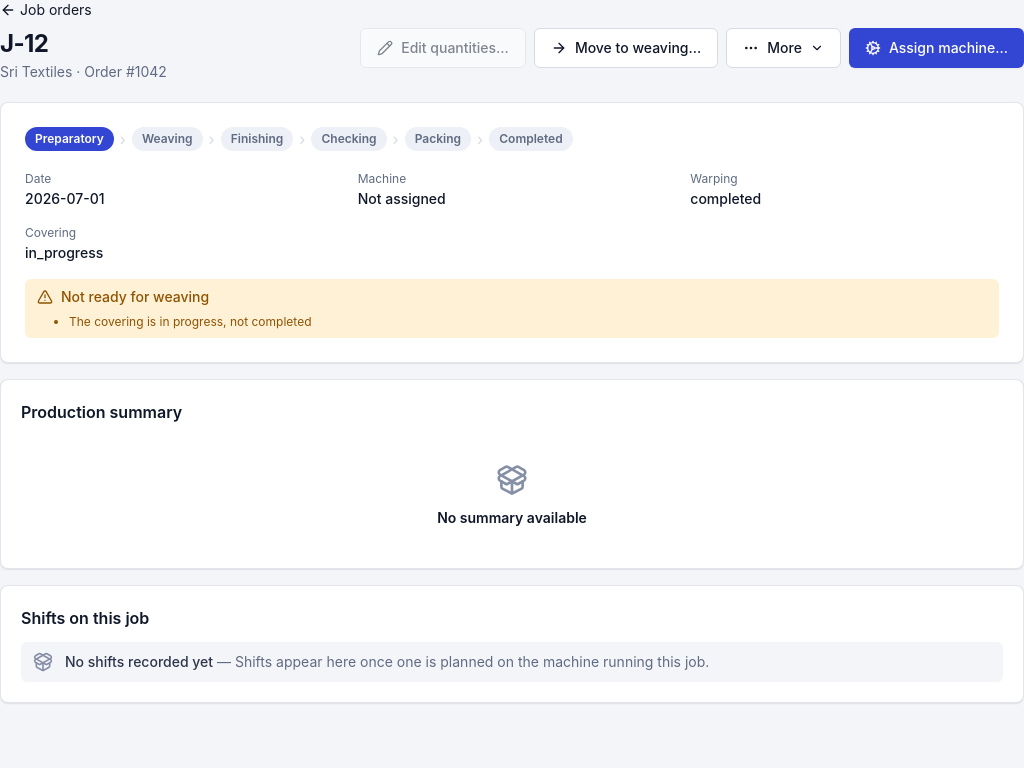
Test case: moving a preparatory job to weaving › falls back to the server message when no blockers came back
Click the button "Move to weaving…": (626,48) [534,28,718,68]
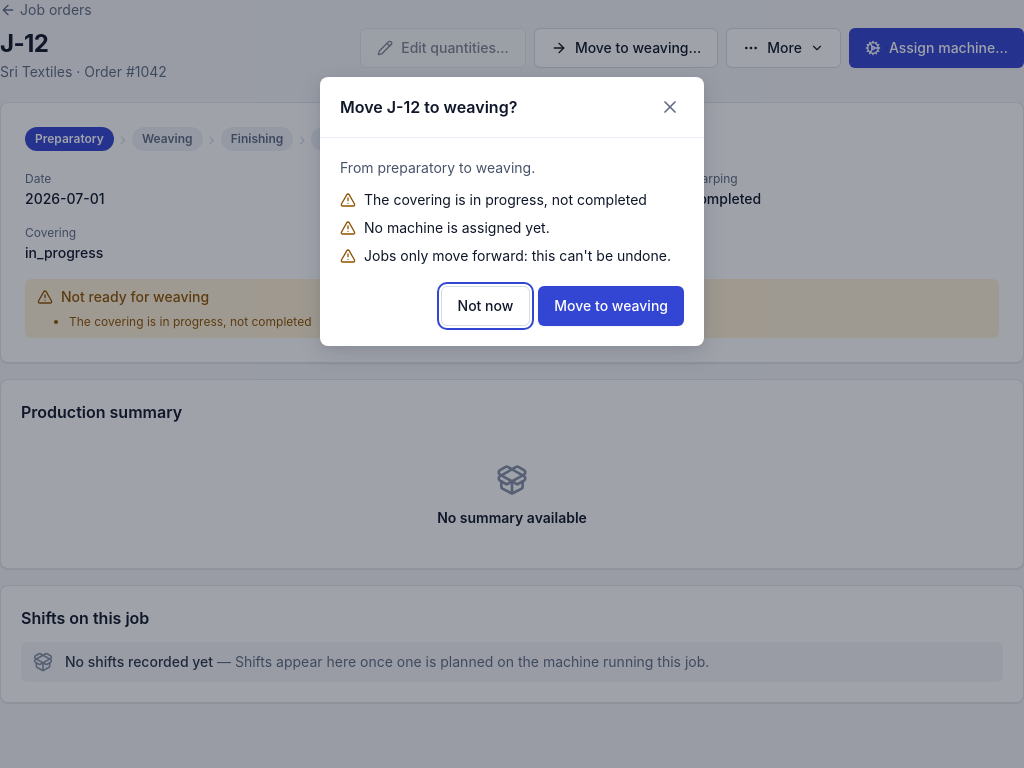
Click the button "Move to weaving": (611,306) [538,286,684,326]
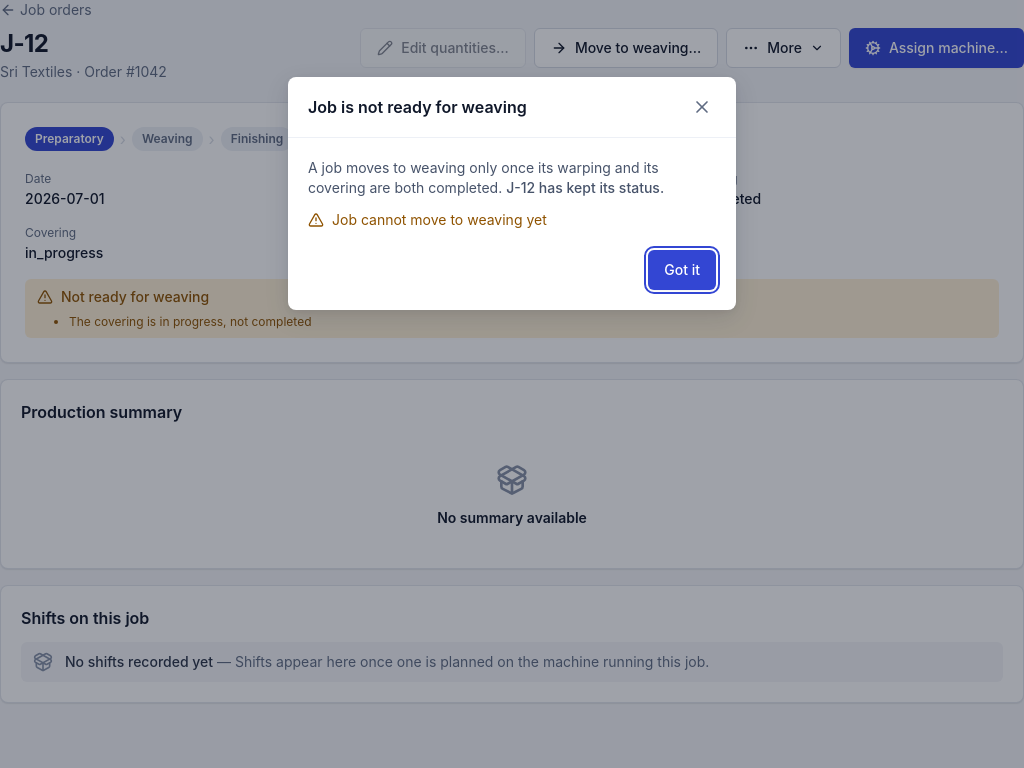
Result: the dialog shows "cannot move to weaving yet" at [332,211,547,228]
